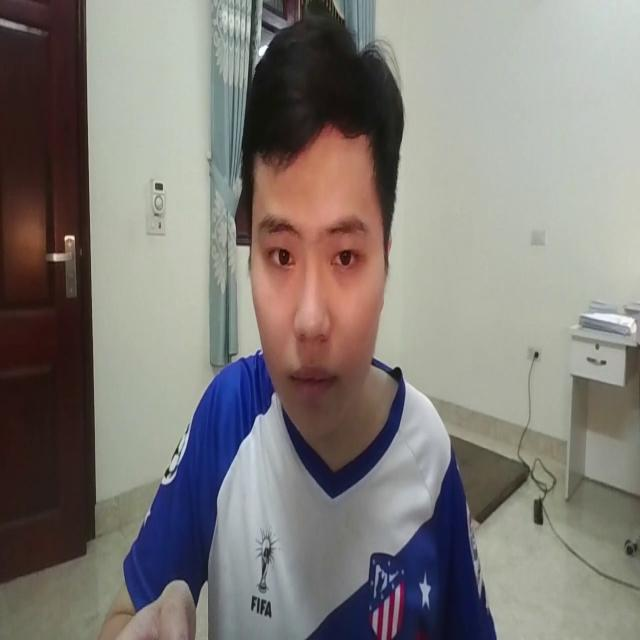student: (88, 6, 506, 640)
